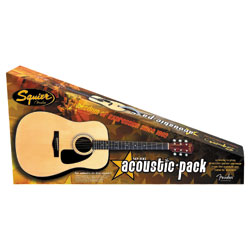guitar: (14, 111, 193, 179)
